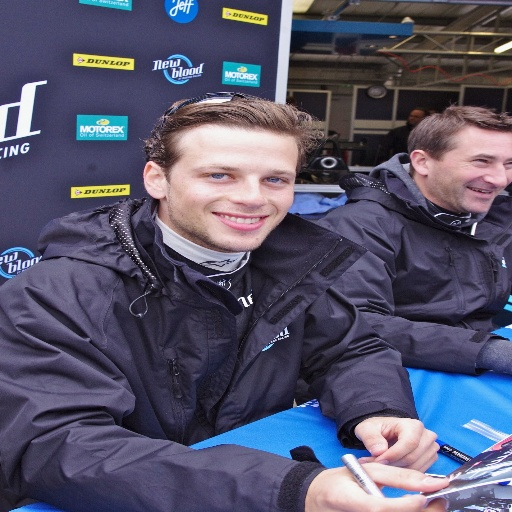hand: (301, 459, 448, 511), (360, 421, 445, 476)
